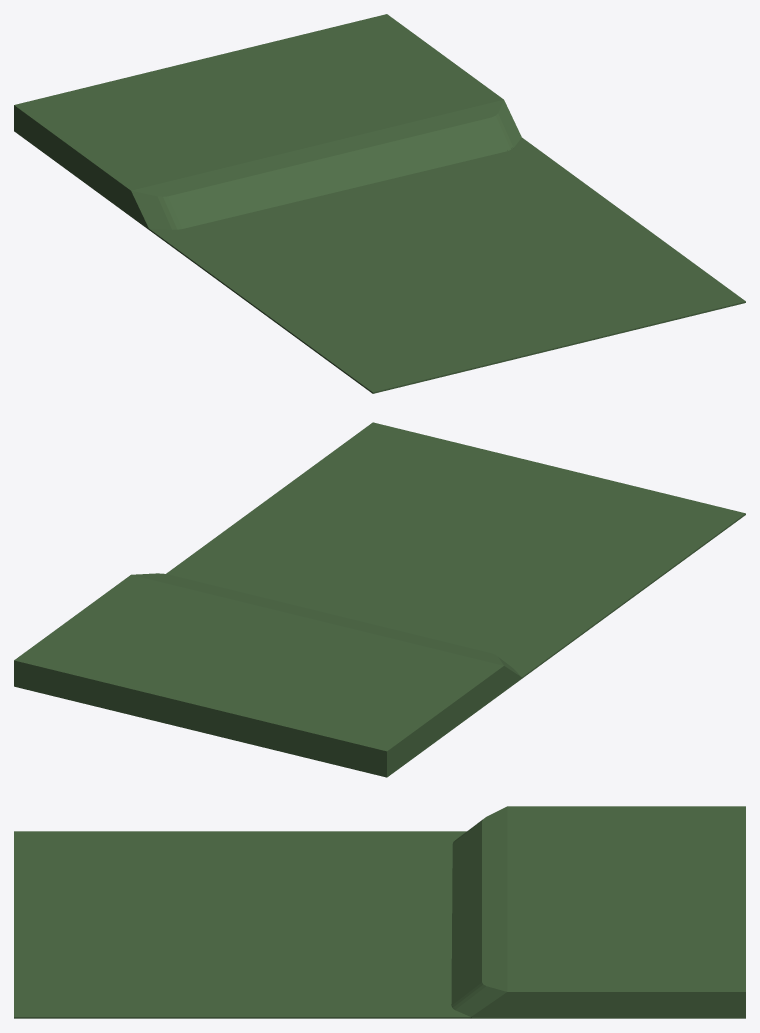
File: Map.fbx
The picture shows the model from 3 angles, top to bottom: view 1: azimuth 30°, elevation 25°; view 2: azimuth 150°, elevation 25°; view 3: azimuth 270°, elevation 25°; orthographic projection.
Parts seen in each view (by area): view 1: Cube; view 2: Cube; view 3: Cube.
Part boxes in pixels (x1=…): Cube: x1=14, y1=14, x2=745, y2=393; Cube: x1=14, y1=422, x2=745, y2=777; Cube: x1=14, y1=806, x2=745, y2=1018.
Bounding box in the file's own units: 34783 × 2334 × 57965.
1 material, 1 textured.
